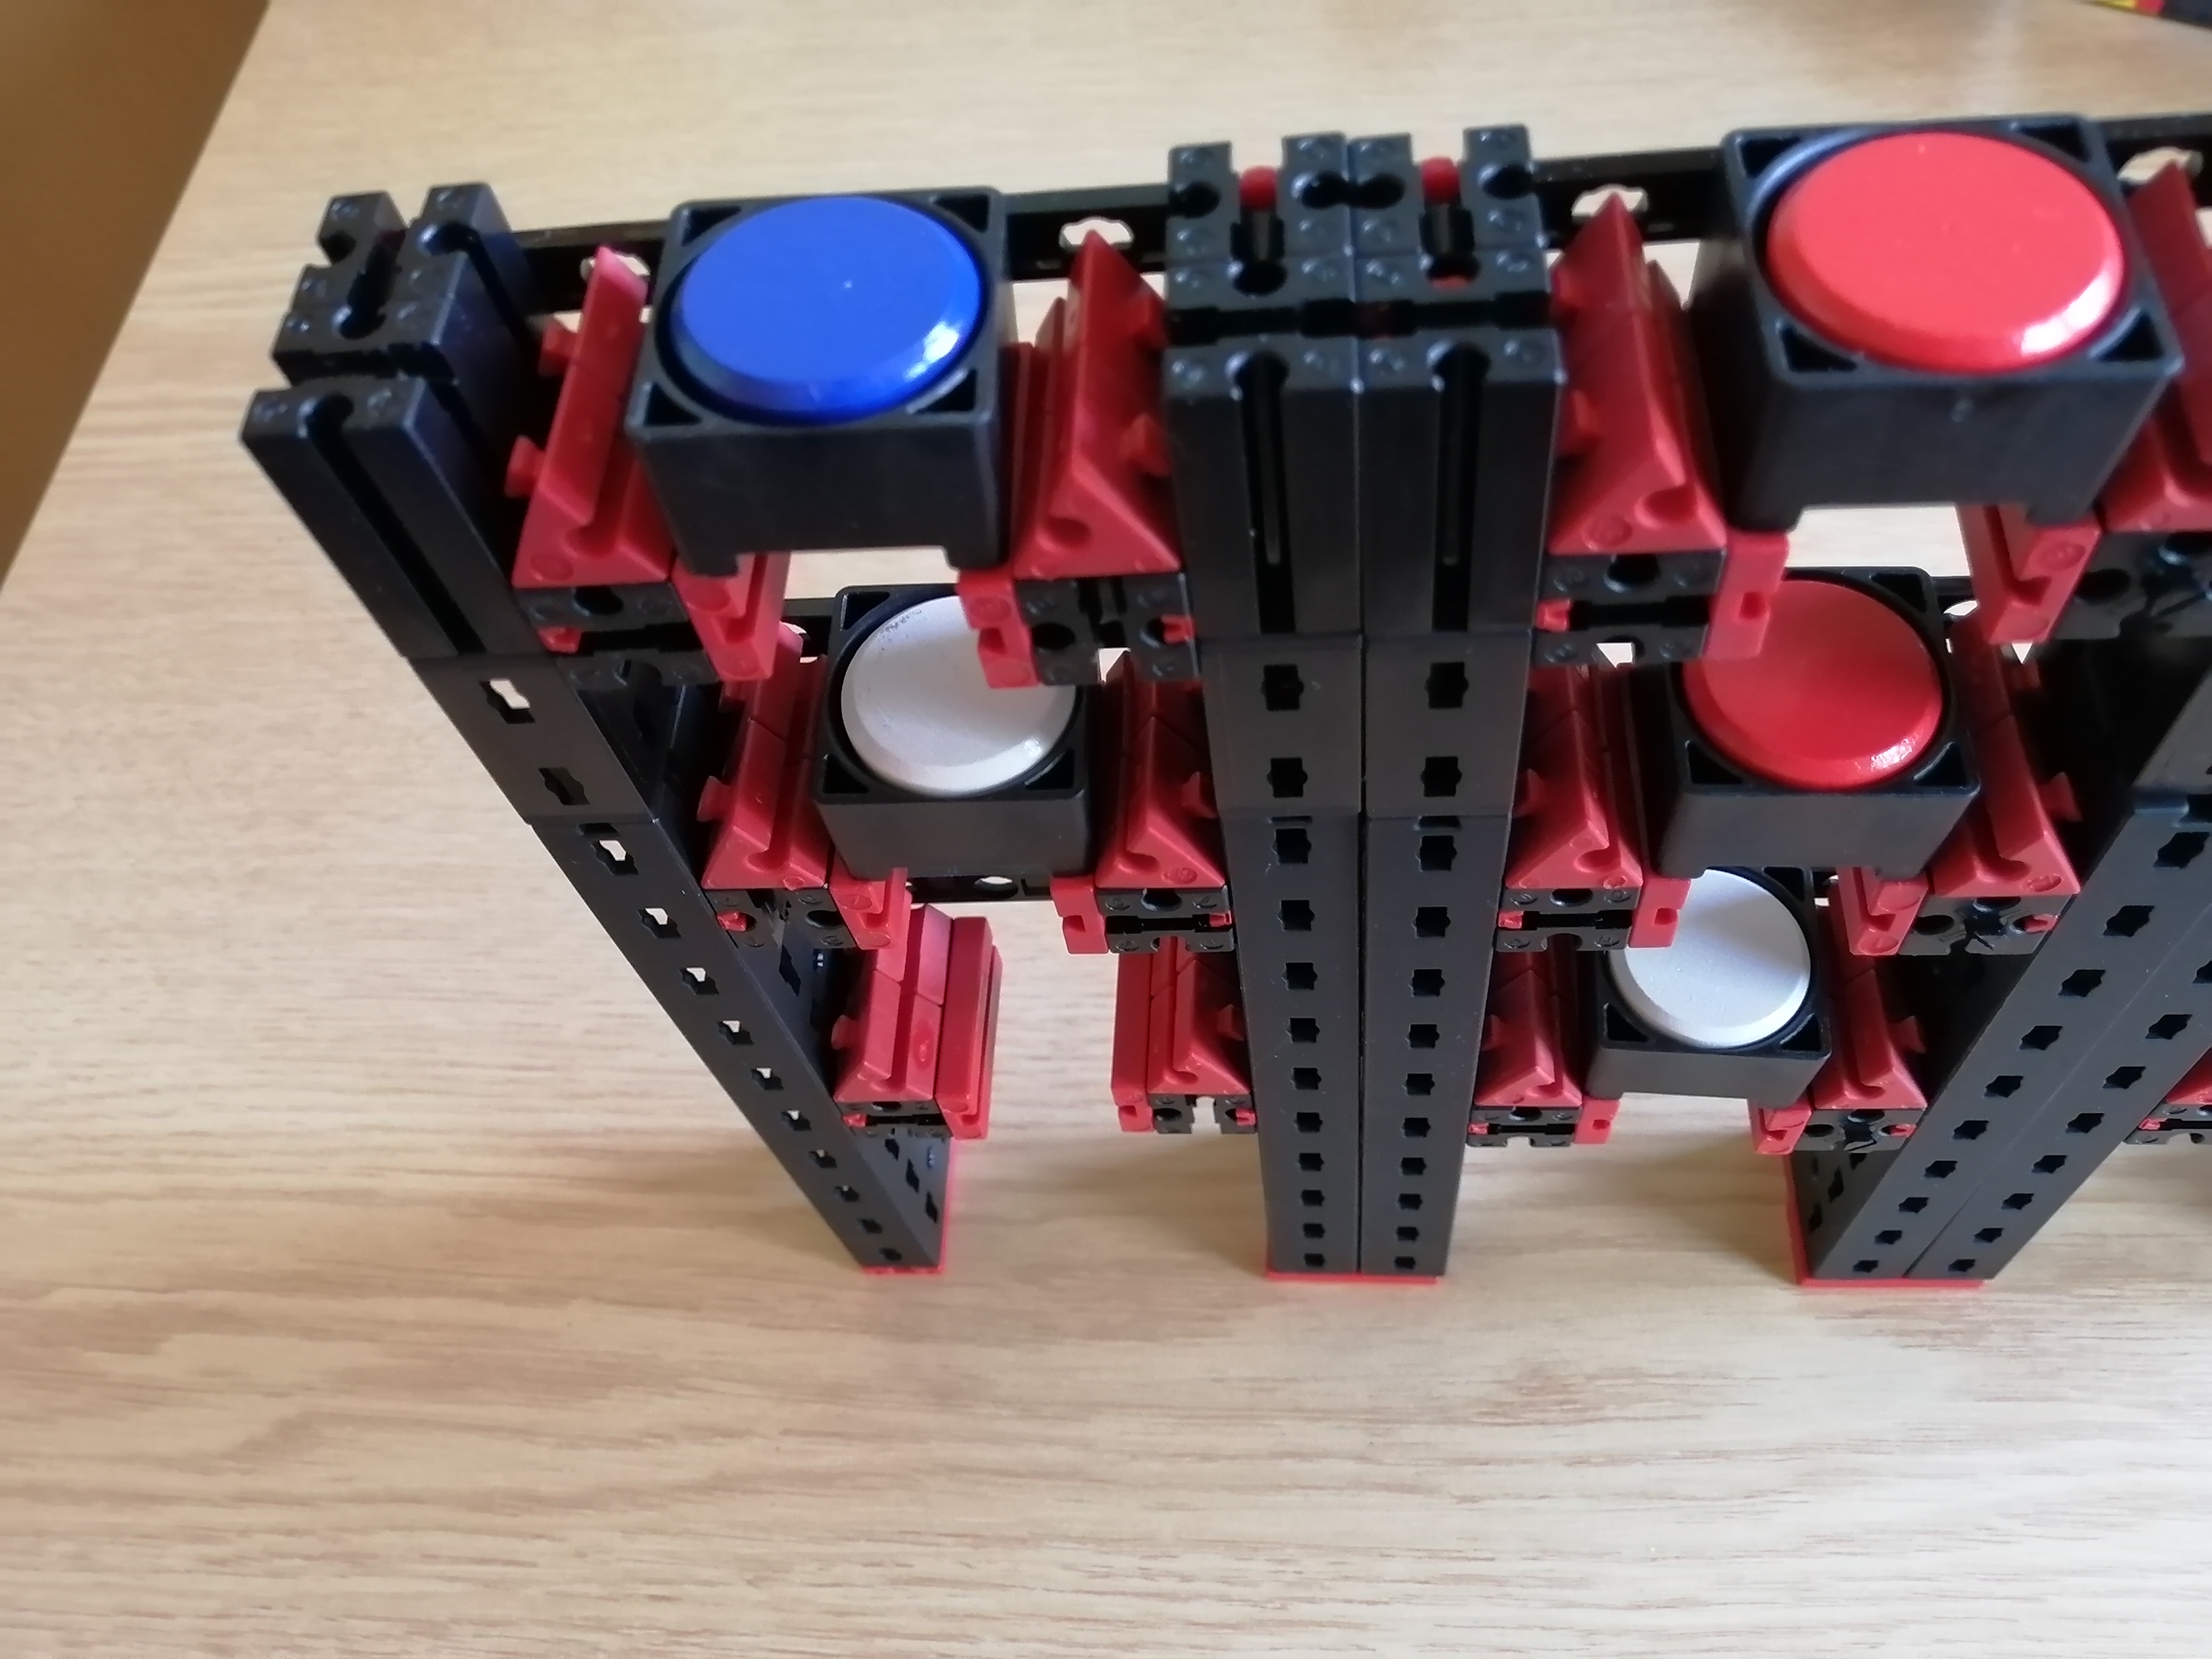Behaelter: (1705, 125, 2104, 523), (644, 197, 1014, 561), (1655, 664, 1958, 871), (827, 683, 1099, 885), (1581, 953, 1815, 1107)
WerkStueck: (1771, 131, 2120, 354), (683, 200, 967, 411), (1773, 587, 1942, 784), (850, 598, 977, 788), (1686, 885, 1811, 1049)
